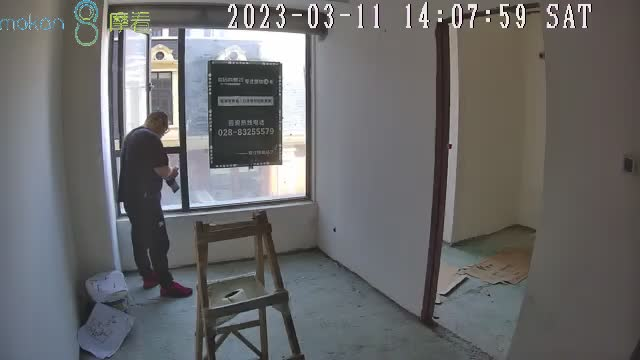people: (116, 111, 193, 298)
window: (112, 24, 312, 214)
